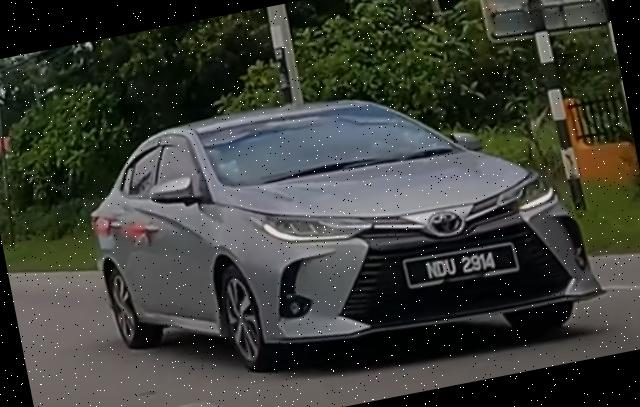License_Plate: (399, 237, 521, 295)
car: (73, 48, 612, 407)
